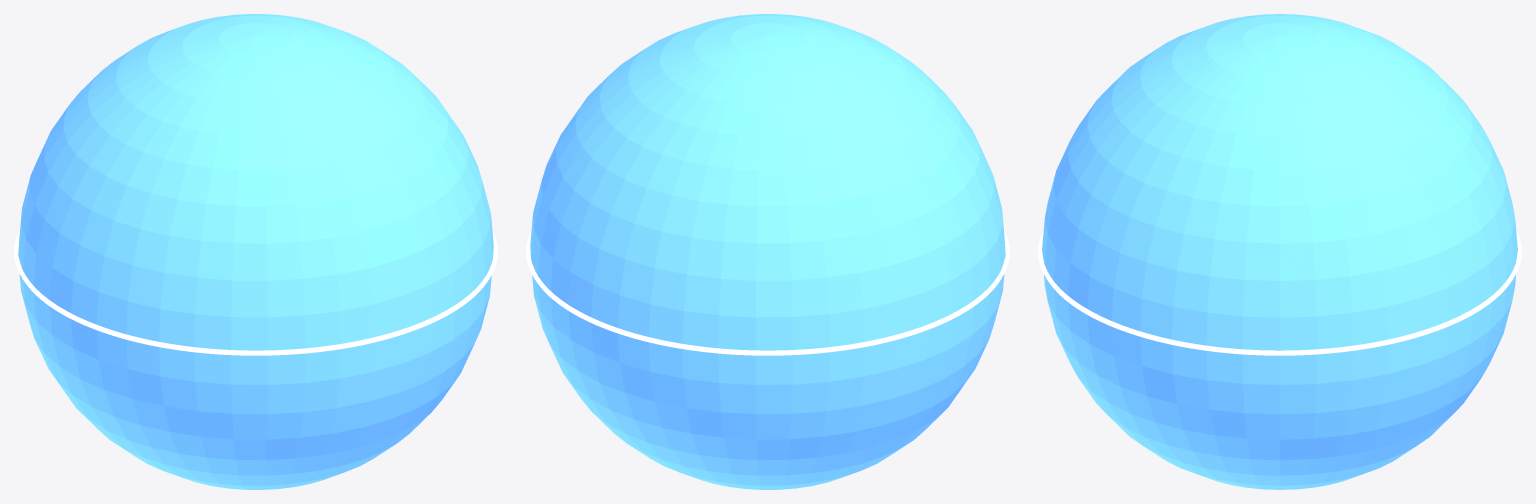
File: warp_bubble_pulse.glb
3 views of the same model, side by side, from view 1: azimuth 30°, elevation 25°; view 2: azimuth 150°, elevation 25°; view 3: azimuth 270°, elevation 25° (orthographic).
Visible parts, largest first — view 1: warp_bubble_pulse; view 2: warp_bubble_pulse; view 3: warp_bubble_pulse.
Part boxes in pixels (<box>): warp_bubble_pulse: <box>14,14,497,489</box>; warp_bubble_pulse: <box>526,14,1009,489</box>; warp_bubble_pulse: <box>1038,14,1521,489</box>.
Size of the model in its own units: 4.67 by 4.6 by 4.67.
